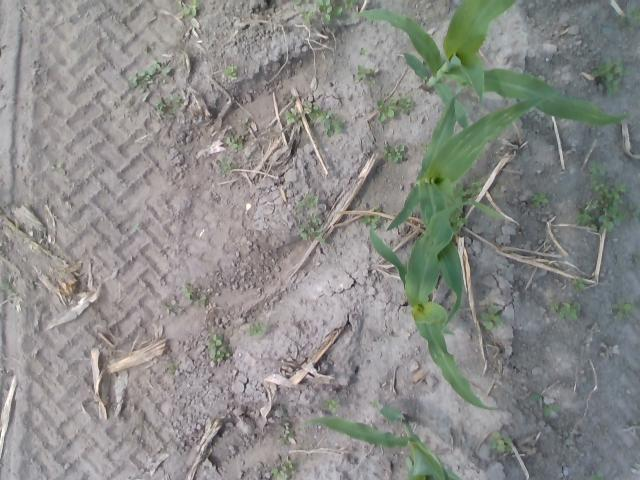Maize: (384, 84, 554, 331), (334, 0, 628, 134), (366, 200, 510, 417), (295, 405, 464, 480)
Weeds: (572, 181, 626, 232), (590, 56, 632, 96), (128, 59, 171, 90), (205, 334, 231, 363), (300, 212, 326, 241), (582, 160, 606, 191), (479, 302, 503, 330), (154, 94, 184, 115), (302, 100, 325, 125), (323, 112, 345, 138), (610, 298, 635, 320), (270, 460, 297, 480), (383, 141, 404, 166), (176, 0, 202, 20), (490, 430, 512, 453), (619, 6, 640, 30), (466, 176, 485, 202), (556, 302, 582, 320), (378, 98, 397, 122), (397, 92, 415, 116), (315, 0, 332, 25), (332, 0, 358, 16), (293, 196, 318, 212), (451, 212, 468, 233), (284, 108, 302, 126), (225, 134, 244, 150), (360, 214, 379, 230), (451, 182, 466, 202), (162, 299, 178, 317), (356, 64, 374, 80), (248, 322, 267, 337), (625, 202, 640, 220), (532, 191, 550, 206), (542, 404, 562, 417), (324, 398, 339, 415), (302, 7, 317, 22), (571, 277, 585, 293), (166, 360, 182, 374), (218, 156, 232, 172), (223, 64, 238, 78), (283, 426, 294, 444), (194, 294, 207, 308), (183, 284, 195, 298), (588, 471, 604, 480), (548, 299, 560, 310), (0, 278, 11, 290), (530, 392, 541, 402), (420, 140, 430, 150), (358, 46, 368, 55), (52, 162, 62, 170), (372, 400, 380, 408), (372, 205, 380, 212), (240, 118, 248, 124), (296, 0, 302, 6), (306, 0, 310, 3)
